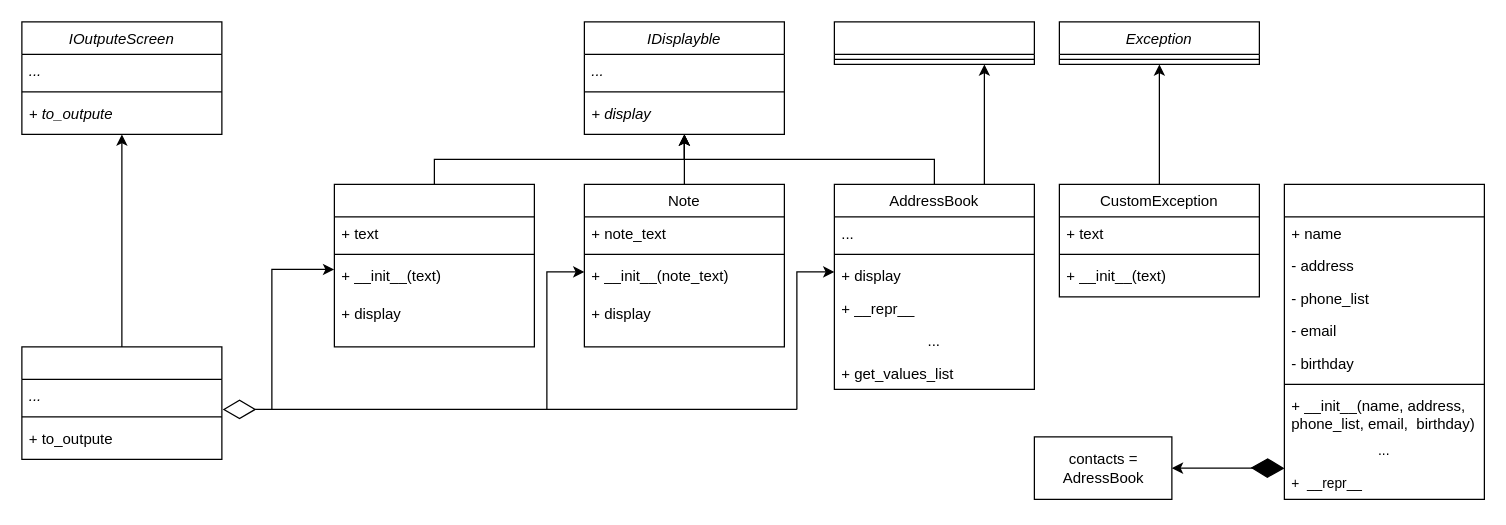
The diagram is 1506 pixels wide and 525 high, and some of its shapes have lost their labels. The shapes that lost their labels are listed below. From the top down, each one's box as (x1, y1, x2, y2) in pixels, then its label:
(833, 21, 1034, 64): UserDict
(333, 183, 534, 347): HelpList
(1283, 183, 1484, 499): Record
(21, 346, 222, 459): ToConsole
